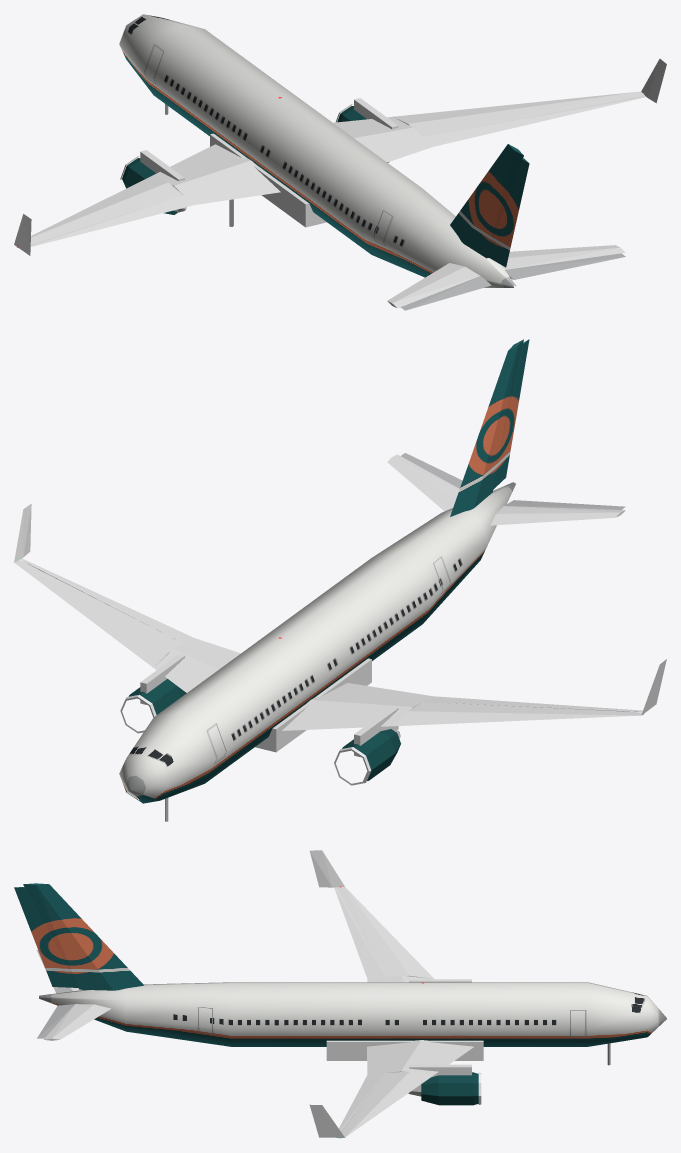
The model's file is airliner_lod2.glb.
3 views of the same model, one above another, from view 1: azimuth 30°, elevation 25°; view 2: azimuth 150°, elevation 25°; view 3: azimuth 270°, elevation 25° (orthographic). The views are drawn at different scales.
Parts seen in each view (by area): view 1: body; view 2: body; view 3: body.
Part boxes in pixels (box(x1,y1,x2,y2)): body: box(14, 14, 666, 310); body: box(14, 339, 666, 803); body: box(14, 850, 666, 1138).
Size of the model in its own units: 34.56 by 11.43 by 37.45.
Materials: 2 (2 with a texture image).
